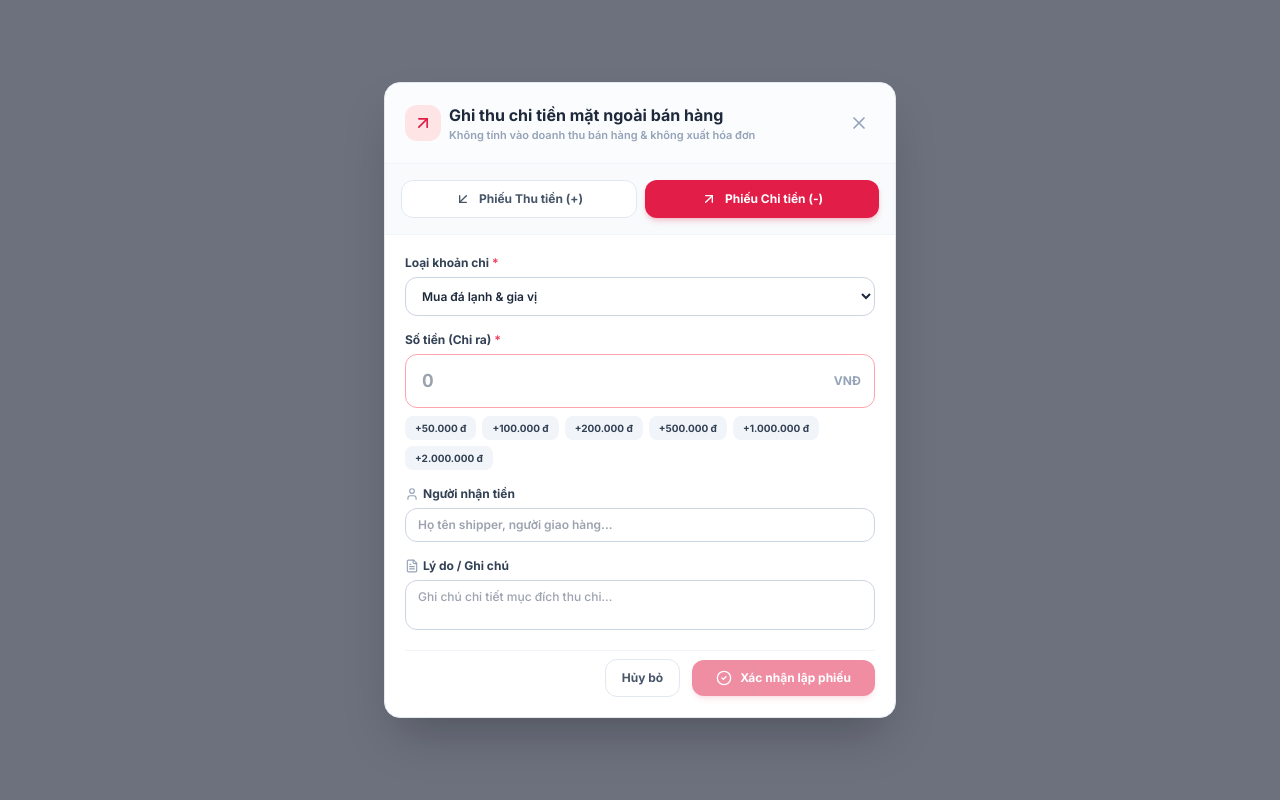
Test case: NCL-03-CN-014: Ghi thu chi tiền mặt ngoài bán hàng trong ca › TC-01: Ghi nhận phiếu chi tiền mặt hợp lệ (<= 500k) và phiếu thu tiền mặt › cộng dồn số tiền nhanh khi nhấn các nút gợi ý tiền
The image size is (1280, 800).
Click the button "+100.000 đ". click: [521, 428]
box: [482,416,559,440]
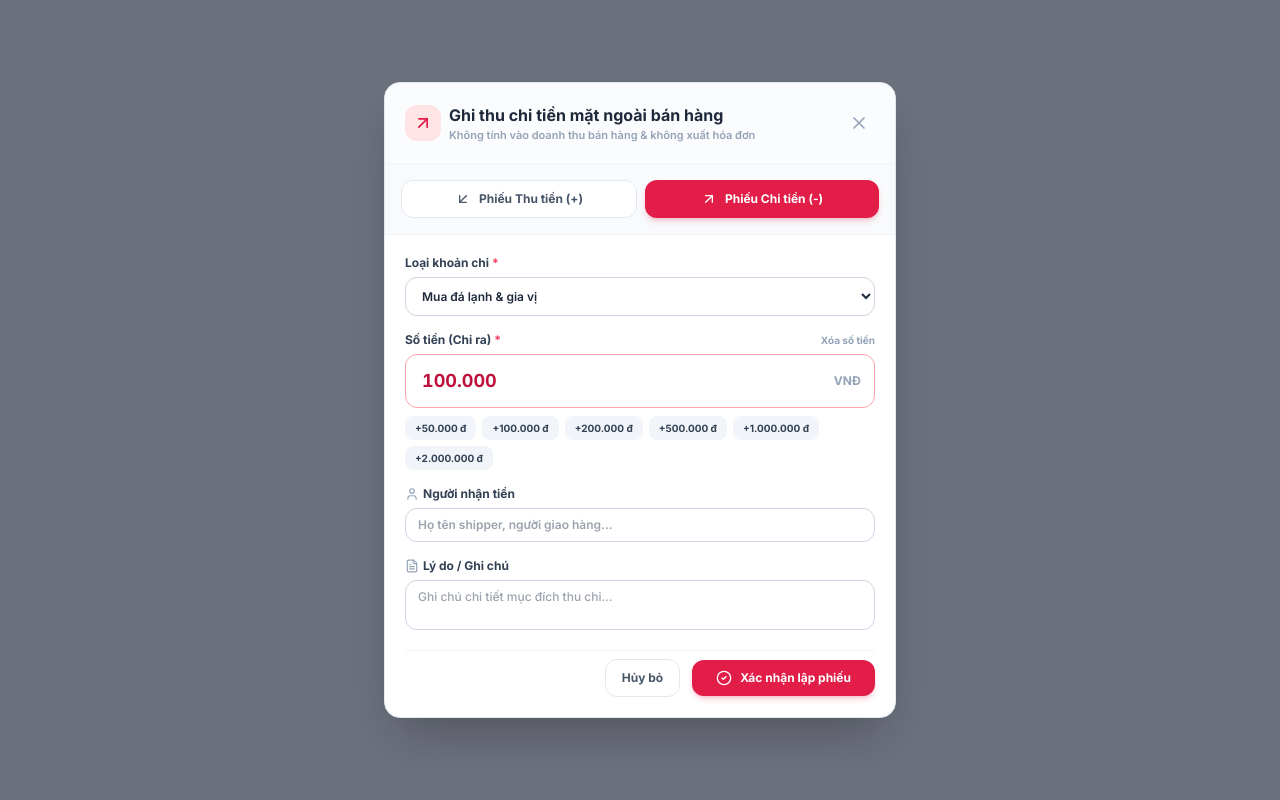
Click the button "+50.000 đ". click: [441, 428]
box: [405,416,476,440]
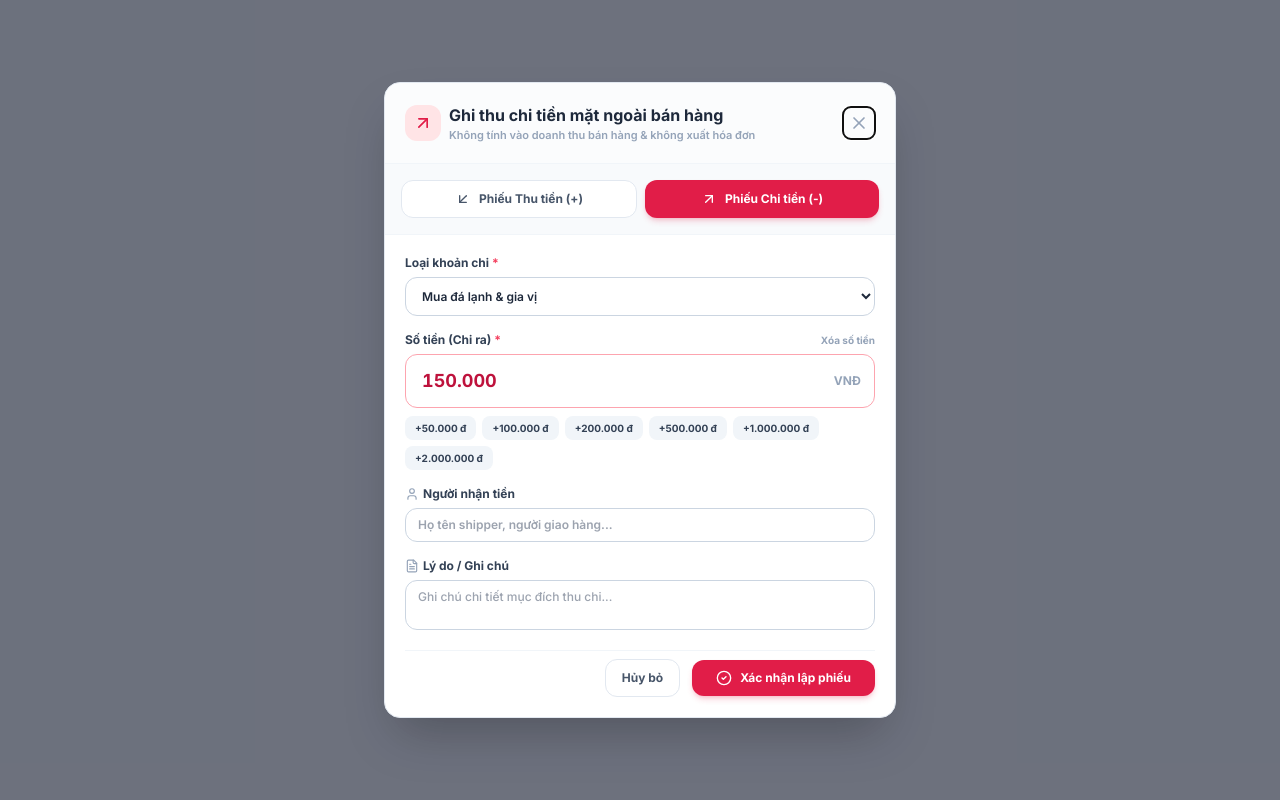
Check: the field with placeholder "0" holds "150.000", box [405,354,875,408]
